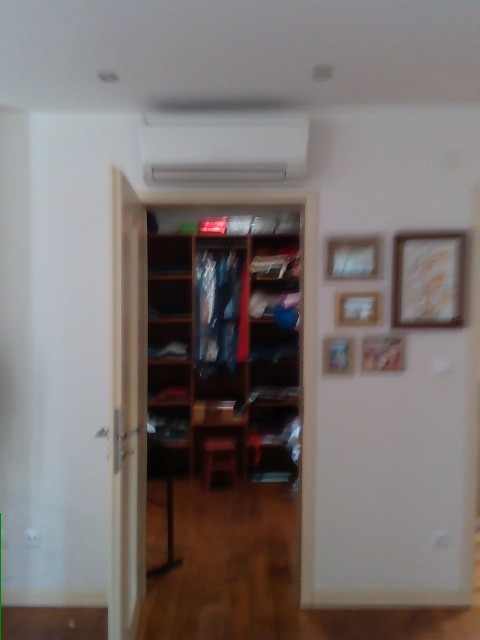open: (111, 168, 318, 638)
